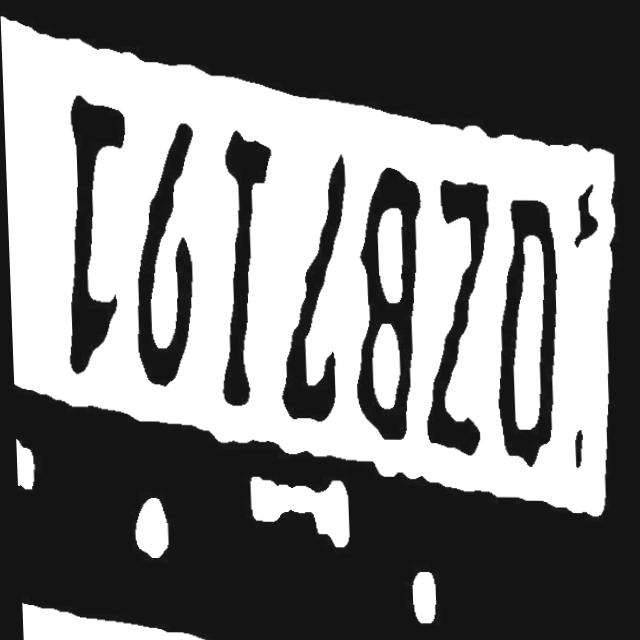1: (52, 94, 132, 380)
7: (273, 144, 352, 430)
9: (124, 112, 209, 395)
b: (346, 161, 426, 445)
i: (206, 128, 281, 413)
q: (484, 190, 565, 471)
z: (416, 173, 496, 463)
